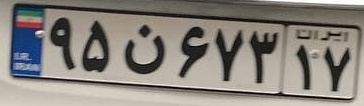character: (114, 19, 169, 77), (172, 23, 210, 82), (78, 15, 114, 74), (211, 25, 246, 85), (247, 26, 279, 89), (46, 15, 78, 75), (320, 43, 353, 94), (291, 40, 314, 90)
